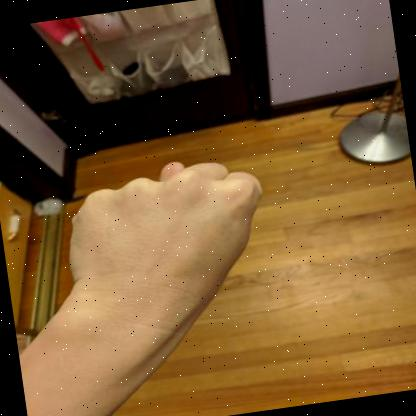N: (65, 161, 262, 321)
